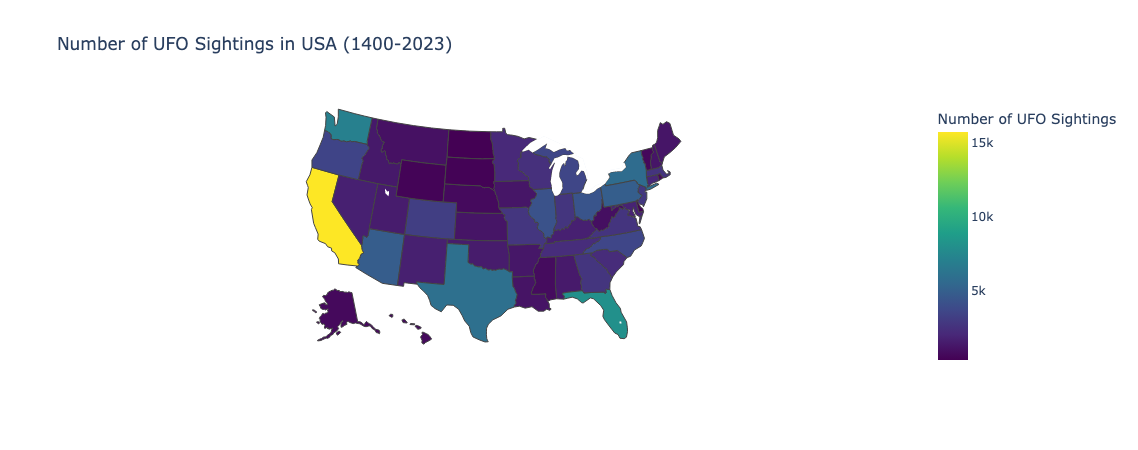

Layout of this report page (visuals, bound fields, positions):
{"tool":"tableau","page":{"name":"Dashboard 1","canvas":[1000,800],"ordinal":0},"visuals":[{"type":"worksheet","title":"Sheet 3","mark":"Automatic","rows":["fall","Meteorite_Landings_20231028.csv_1F803E414B8C4B4B9D0B80996B7E"],"cols":["year"],"box":[8,8,984,441]},{"type":"worksheet","title":"Sheet 1","mark":"Automatic","rows":["name"],"cols":["mass (g)"],"box":[8,449,492,343]},{"type":"worksheet","title":"Sheet 2","mark":"Automatic","rows":["recclass"],"cols":["recclass"],"box":[500,449,492,343]}]}

Visuals, with their boxes on the page's 1000x800 design canvas (x1, y1, x2, y2). These are canvas units, not pixel positions in the 1138x450 screenshot, which may show the page scaled, cropped or inside an application window:
"Sheet 3" worksheet: bbox=[8, 8, 992, 449]
"Sheet 1" worksheet: bbox=[8, 449, 500, 792]
"Sheet 2" worksheet: bbox=[500, 449, 992, 792]
